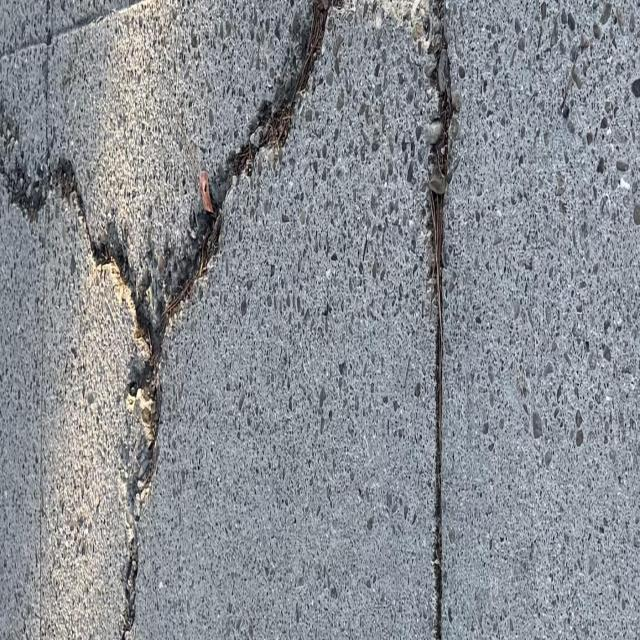hole: (11, 147, 308, 391)
